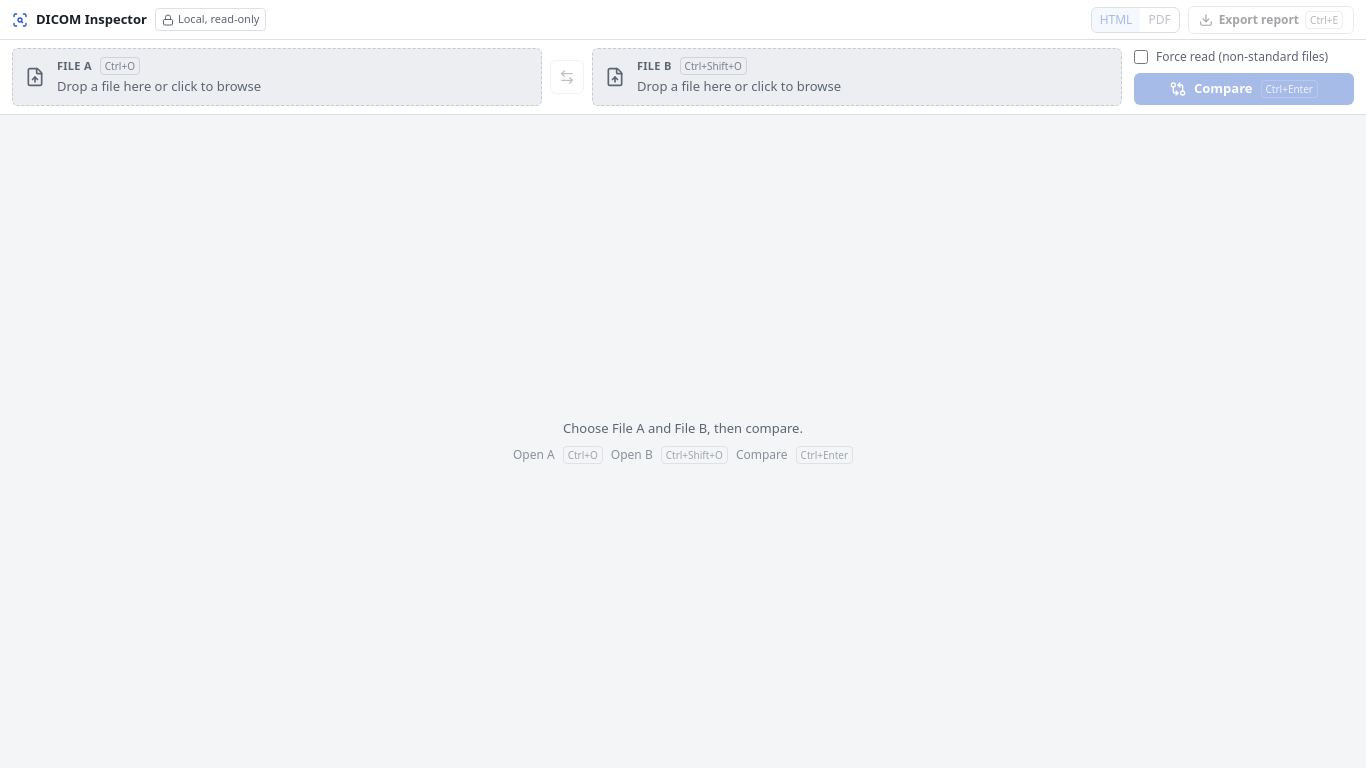
Test: App › shows an engine error inline, naming the file
Click the button with aria-label "Choose File A" at (74,65), box [13,49,541,104]
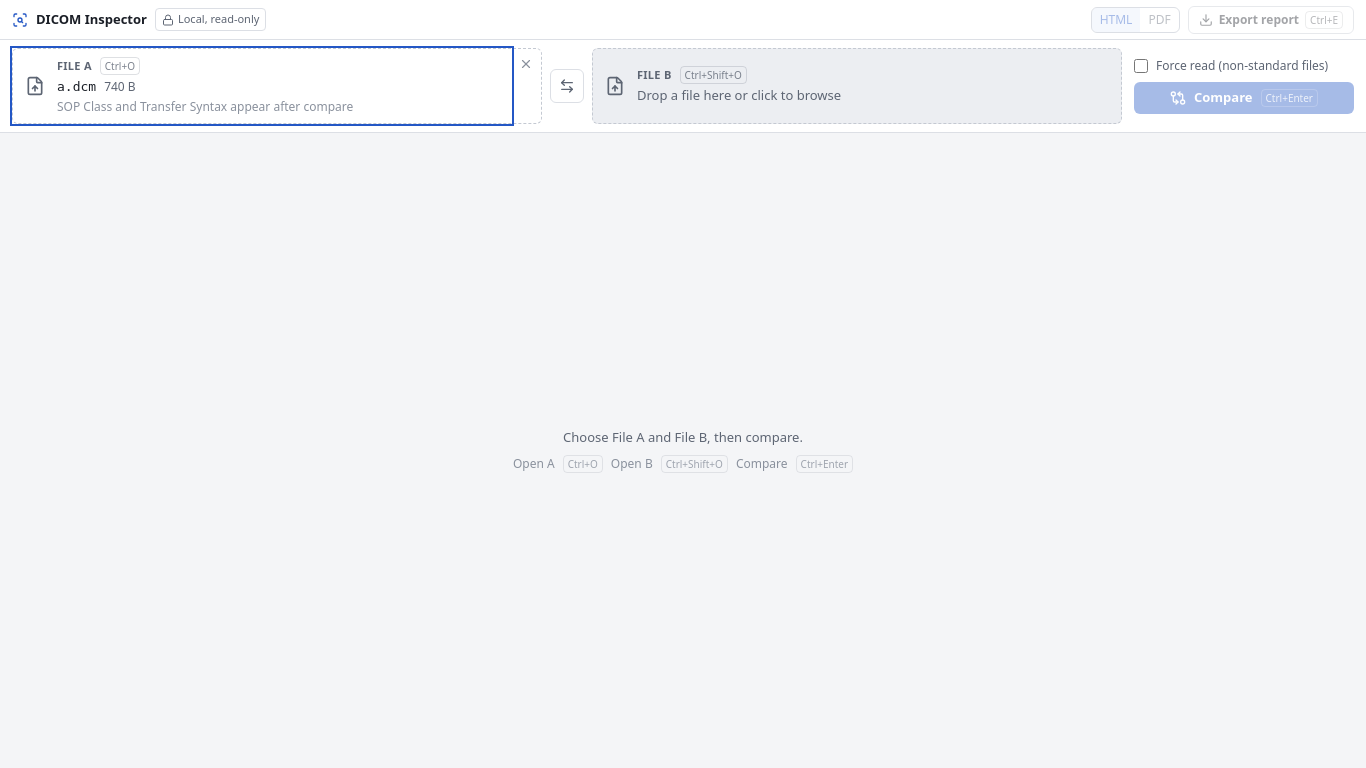
Click the button with aria-label "Choose File B" at (654,74), box [593,49,1121,122]
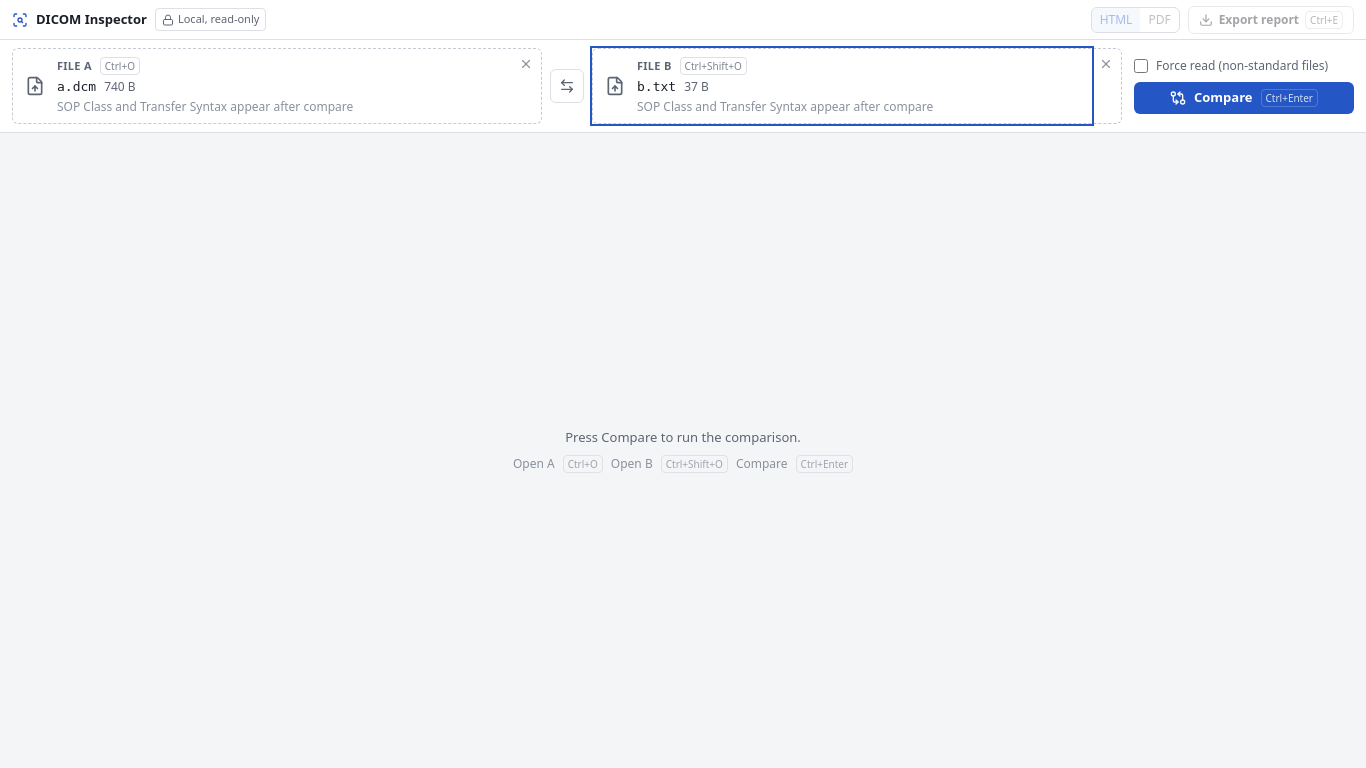
Check: the text "b.txt" is shown, box [637,77,676,96]
Click the button "Compare Ctrl+Enter" at (1244,98), box [1134,82,1354,114]
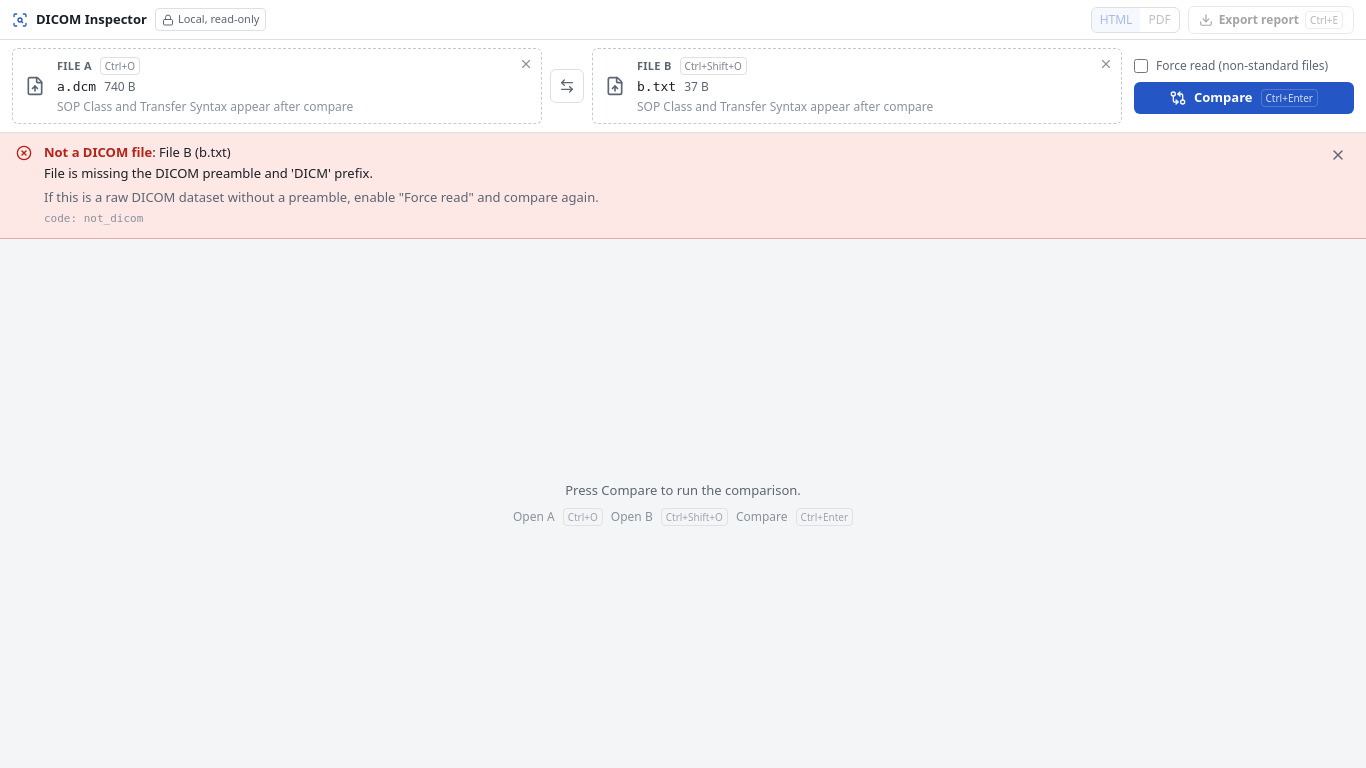
Check: the message shows "Not a DICOM file: File B (b.txt)", box [0,132,1365,238]
Check: the message shows "enable \"Force read\"", box [44,188,599,206]
